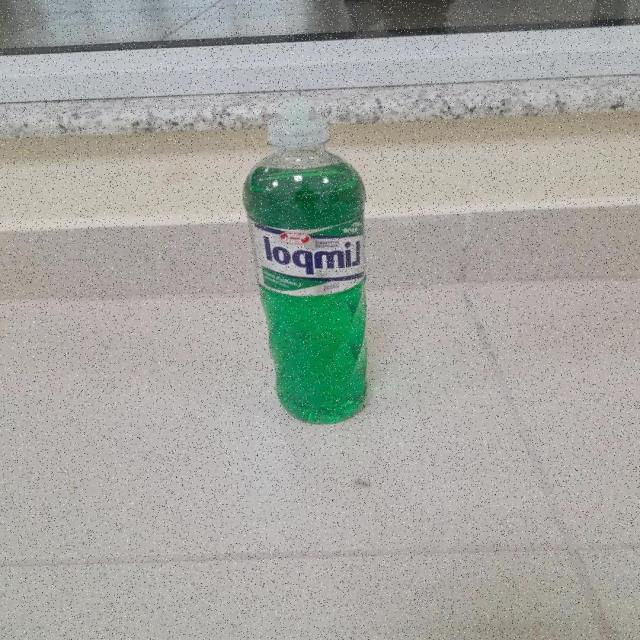Cleaner: (242, 98, 369, 427)
